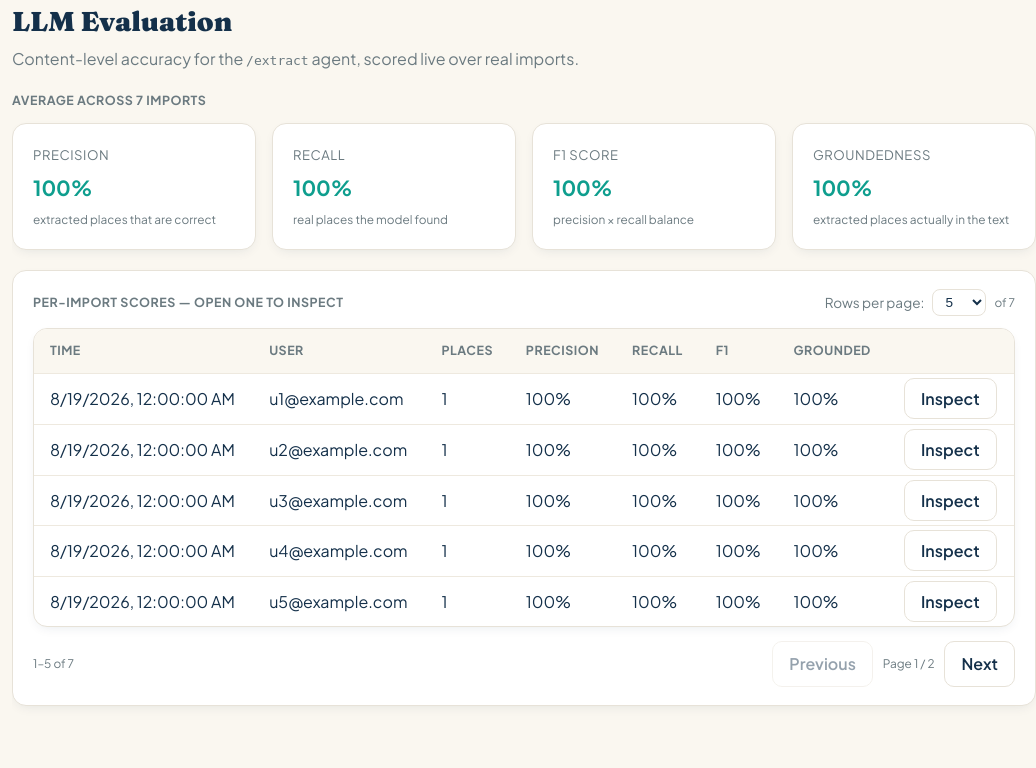
Test case: AdminEvalPage pagination › advances to the next page with the remaining rows
The image size is (1036, 768).
Check: the text "Page 1 / 2" is shown, box [883,655,934,674]
Click the button "Next".
click(980, 664)  # box [944,641,1015,687]
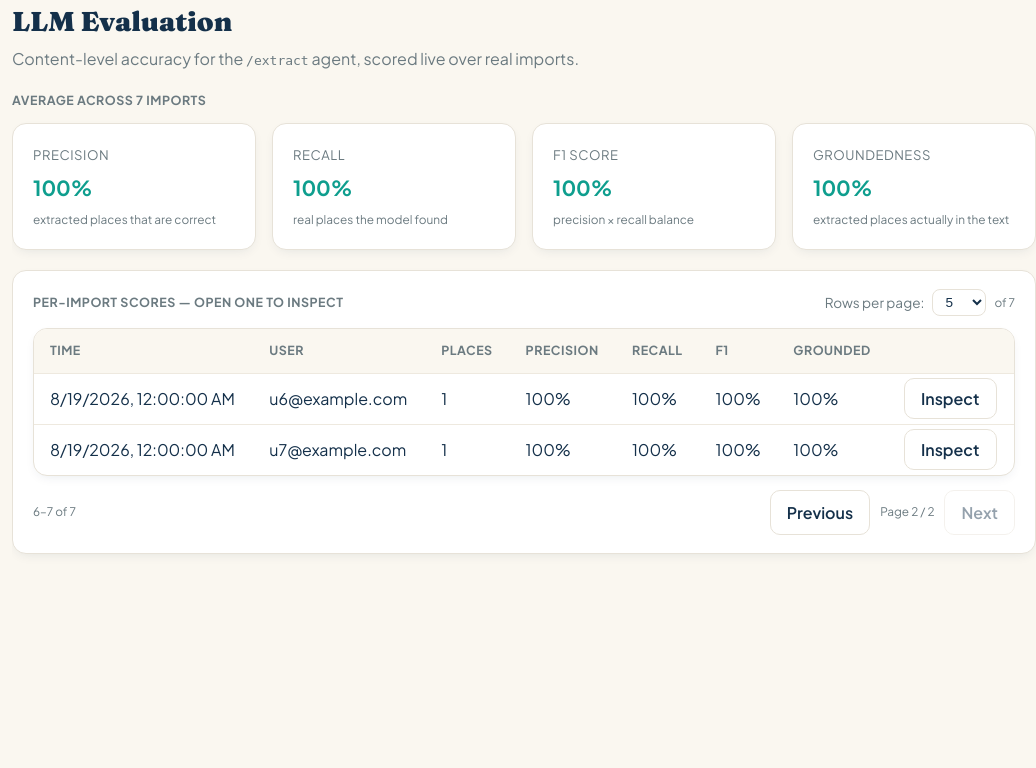
Check: the text "6–7 of 7" is shown, box [33,503,76,522]
Check: the text "Page 2 / 2" is shown, box [880,503,934,522]
Check: the button "Next" is disabled, box [944,490,1015,535]
